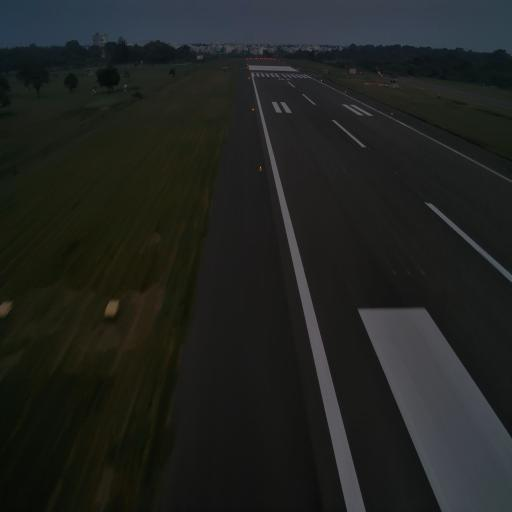off: (420, 268, 426, 280), (392, 267, 398, 278), (407, 268, 413, 277), (334, 167, 338, 175), (326, 168, 330, 174), (367, 146, 371, 152), (343, 167, 346, 174), (395, 169, 398, 175)
on: (259, 166, 262, 174)
